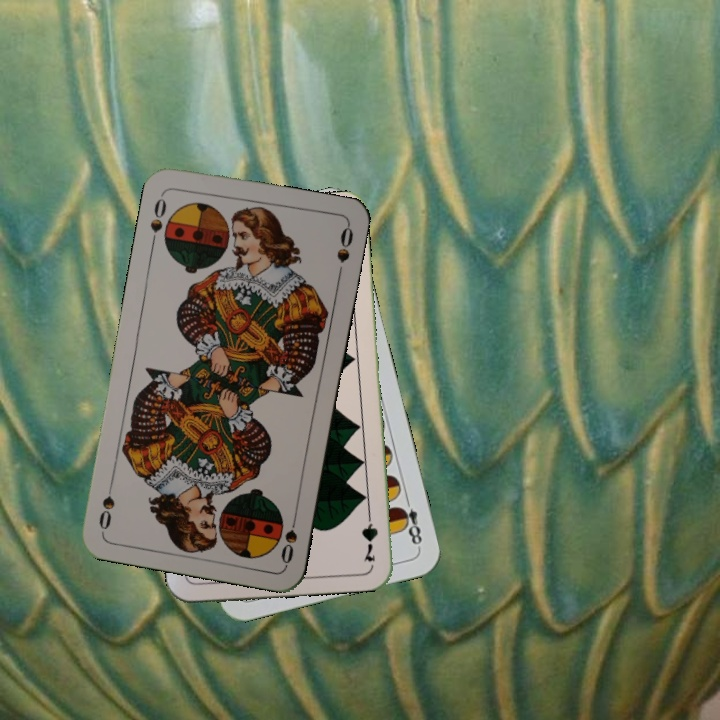E8: (394, 492, 425, 551)
G7: (358, 505, 381, 564)
SO: (277, 508, 300, 567), (146, 189, 169, 247)
